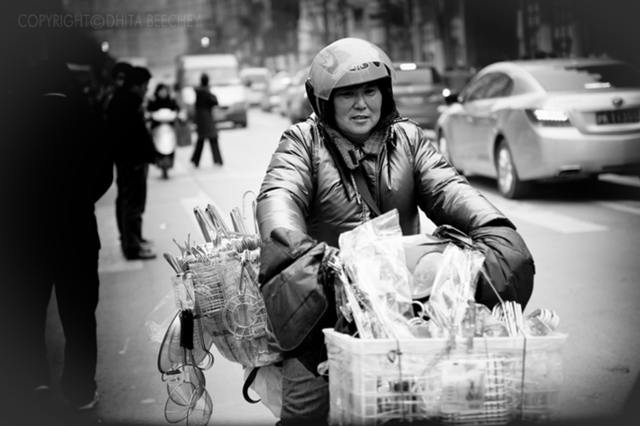helmet: (303, 53, 403, 123)
